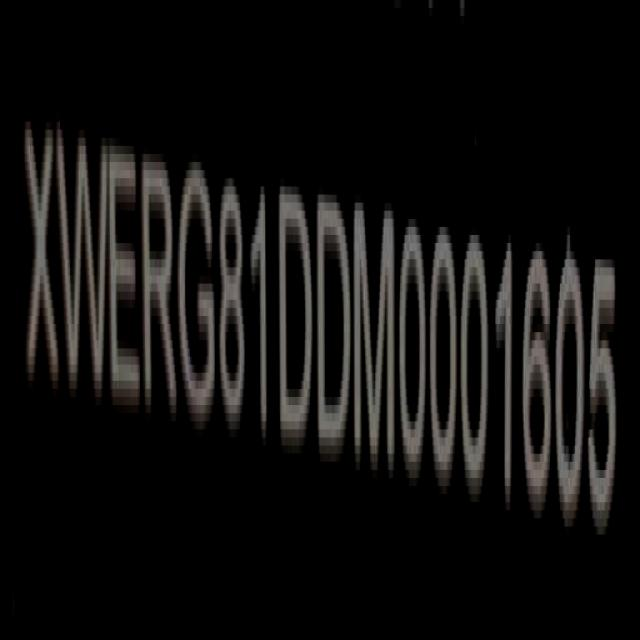0: (429, 212, 461, 502), (554, 238, 585, 536), (398, 202, 428, 496), (459, 221, 489, 512)
1: (251, 170, 274, 457), (497, 231, 518, 524)
5: (587, 239, 619, 546)
6: (522, 235, 553, 529)
8: (217, 169, 248, 450)
D: (315, 183, 354, 486), (278, 172, 312, 463)
E: (109, 126, 142, 429)
G: (178, 146, 220, 442)
N: (354, 187, 398, 490)
R: (141, 138, 180, 438)
W: (56, 102, 109, 419)
X: (22, 98, 59, 414)
